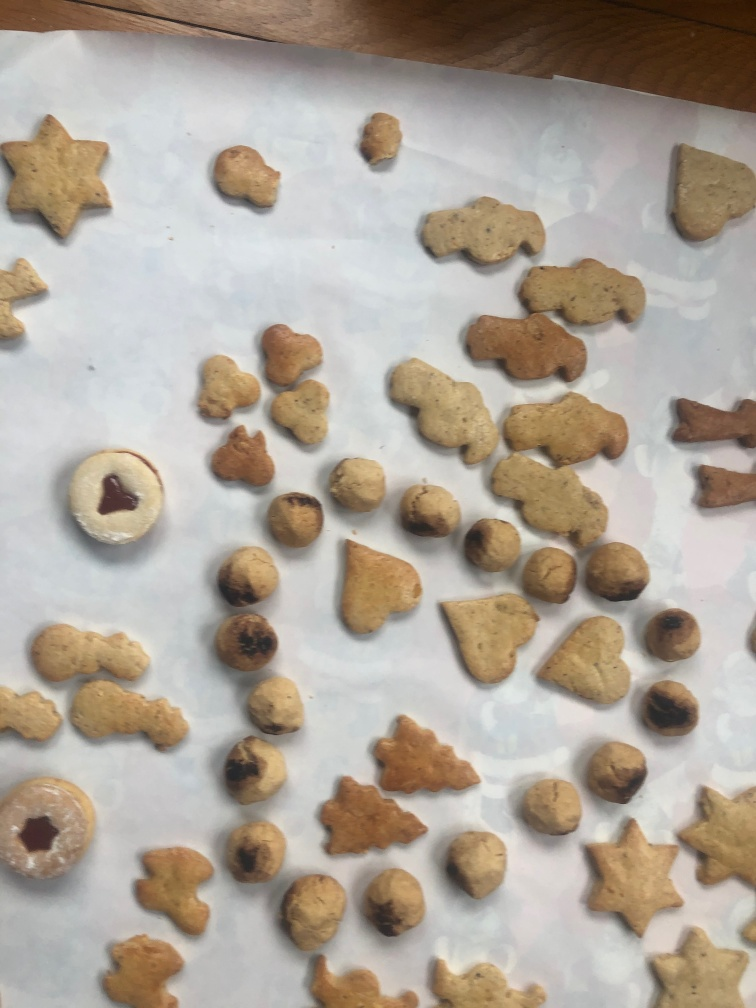christmas shortbread with jam: (3, 771, 105, 889), (63, 445, 165, 557)
christmas tree: (366, 709, 480, 802), (316, 773, 426, 861)
flake: (205, 417, 276, 499), (191, 350, 260, 427), (271, 376, 335, 456), (256, 321, 326, 393)
heart: (433, 585, 543, 691), (534, 610, 636, 716), (665, 134, 756, 245), (330, 534, 425, 640)
lamb: (126, 839, 224, 946), (97, 932, 187, 1008)
santa claus: (383, 351, 505, 471), (487, 450, 617, 558), (416, 190, 555, 272), (460, 307, 593, 392), (498, 387, 638, 467), (517, 255, 653, 336), (302, 946, 426, 1008), (424, 951, 555, 1008)
shooting star: (665, 385, 756, 457), (687, 457, 755, 528)
snowball: (216, 732, 292, 808), (220, 811, 295, 884), (581, 735, 653, 807), (633, 677, 708, 746), (360, 862, 427, 938), (282, 874, 348, 950), (443, 830, 514, 899), (394, 473, 465, 542), (208, 610, 286, 672), (260, 486, 330, 555), (242, 668, 308, 740), (516, 774, 588, 839), (583, 535, 648, 604), (214, 544, 286, 606), (326, 449, 389, 517), (636, 601, 702, 665), (462, 512, 525, 579), (522, 543, 579, 607)
snowman: (70, 682, 192, 761), (25, 616, 158, 685), (1, 669, 65, 750)
star: (1, 110, 115, 250), (577, 815, 686, 941), (671, 777, 755, 894), (649, 924, 748, 1007)
